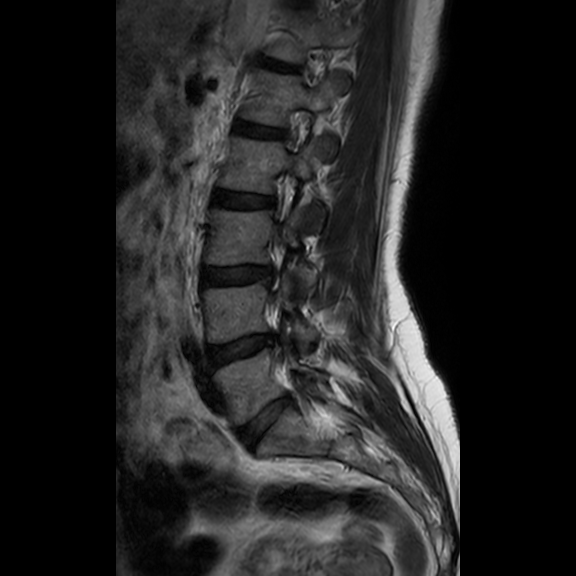LFS0: (266, 99, 320, 160)
